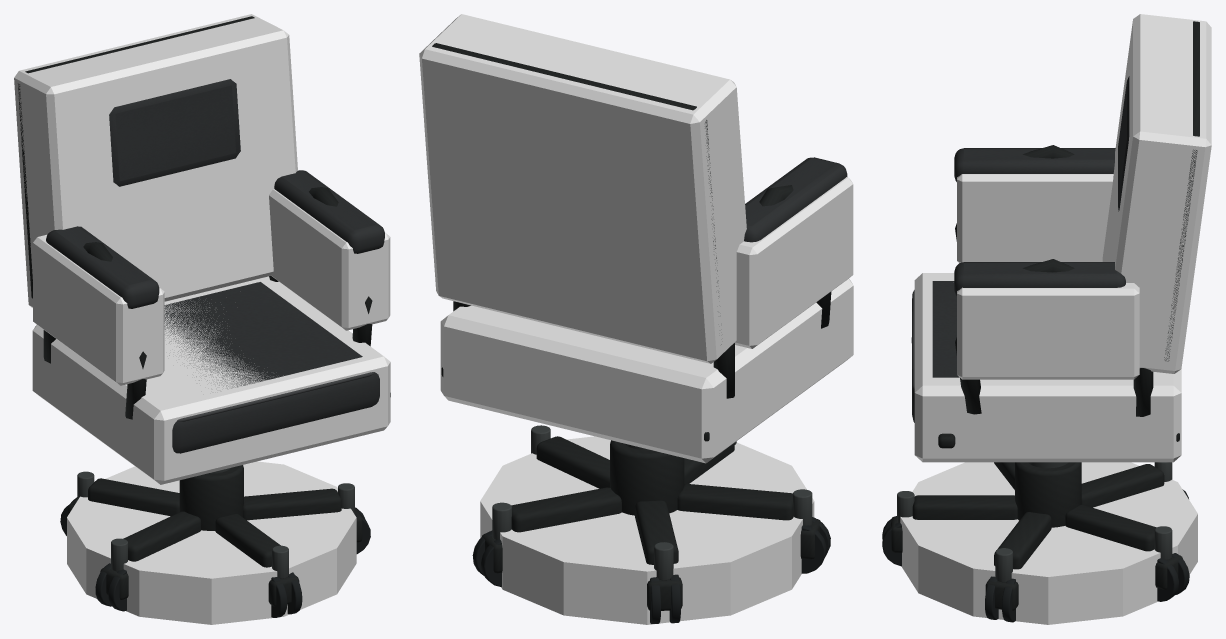
File: chair_basic.glb
3 renders of one model, left to right at view 1: azimuth 30°, elevation 25°; view 2: azimuth 150°, elevation 25°; view 3: azimuth 270°, elevation 25°, orthographic. The views are drawn at different scales.
Visible parts, largest first — view 1: COL_Backrest, COL_Seat, COL_Base, SeatCushion, COL_Arm_Left, BackrestUpholstery_LOD0, COL_Arm_Right, ArmPad_Left, ArmPad_Right, BaseHub, BaseLeg_02, BaseLeg_04 (+6 smaller); view 2: COL_Backrest, COL_Seat, COL_Base, COL_Arm_Left, BaseHub, ArmPad_Left, BaseLeg_05, BaseLeg_03, BaseLeg_02, BaseLeg_04, BackrestShell, ArmSupport_Left (+6 smaller); view 3: COL_Backrest, COL_Base, COL_Seat, COL_Arm_Right, COL_Arm_Left, ArmPad_Right, ArmPad_Left, BaseHub, BaseLeg_01, SeatCushion, BaseLeg_03, BaseLeg_04 (+11 smaller).
Boxes of the visible parts, box(x1,y1,x2,y2) form: COL_Backrest: box(14, 14, 297, 307); COL_Seat: box(32, 276, 390, 484); COL_Base: box(67, 461, 356, 624); SeatCushion: box(164, 282, 379, 453); COL_Arm_Left: box(33, 234, 164, 385); BackrestUpholstery_LOD0: box(109, 79, 240, 186); COL_Arm_Right: box(269, 189, 390, 330); ArmPad_Left: box(46, 226, 159, 308); ArmPad_Right: box(274, 170, 384, 253); BaseHub: box(179, 465, 243, 530); BaseLeg_02: box(243, 488, 341, 520); BaseLeg_04: box(88, 478, 179, 516); COL_Backrest: box(419, 14, 746, 363); COL_Seat: box(440, 278, 853, 463); COL_Base: box(480, 436, 814, 624); COL_Arm_Left: box(734, 177, 853, 348); BaseHub: box(610, 440, 684, 515); ArmPad_Left: box(744, 157, 847, 242); BaseLeg_05: box(677, 484, 793, 520); BaseLeg_03: box(511, 487, 621, 532); BaseLeg_02: box(536, 436, 609, 488); BaseLeg_04: box(635, 500, 678, 564); BackrestShell: box(432, 43, 721, 344); ArmSupport_Left: box(713, 185, 831, 398); COL_Backrest: box(1102, 14, 1211, 373); COL_Base: box(900, 462, 1197, 624); COL_Seat: box(914, 273, 1181, 462); COL_Arm_Right: box(957, 283, 1139, 379); COL_Arm_Left: box(957, 174, 1113, 262); ArmPad_Right: box(954, 262, 1125, 295); ArmPad_Left: box(954, 148, 1115, 181); BaseHub: box(1015, 462, 1081, 527); BaseLeg_01: box(912, 495, 1017, 519); SeatCushion: box(912, 281, 959, 422); BaseLeg_03: box(1065, 504, 1156, 551); BaseLeg_04: box(1081, 464, 1164, 507).
Size of what is drawn, in the model's own units: 0.62 by 1.02 by 0.6237.
Materials: 5 (2 with a texture image).
